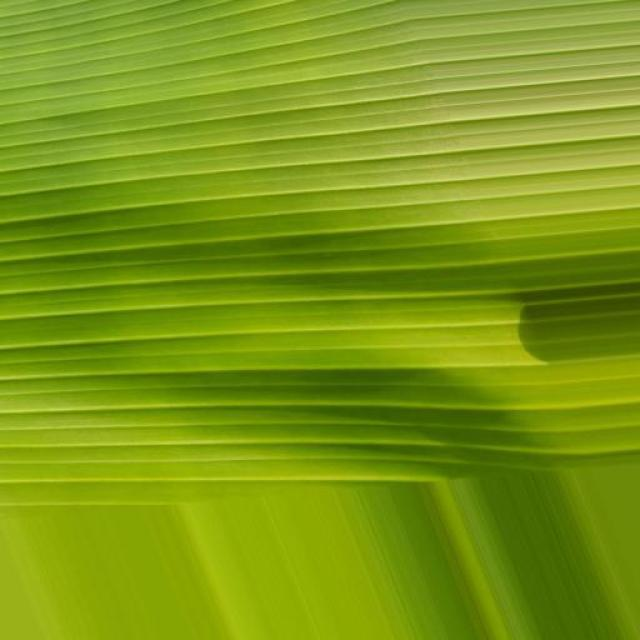Black_leaf_spot: (0, 0, 636, 512)
